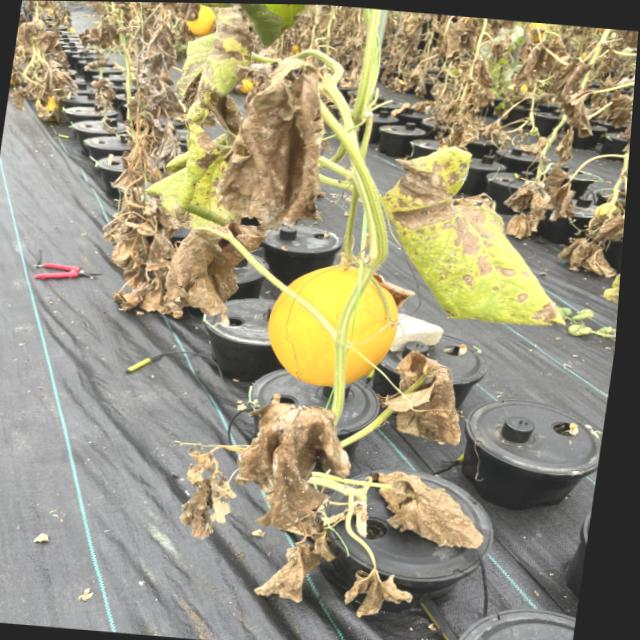bacterial wilt: (349, 140, 592, 334), (198, 50, 340, 236), (123, 210, 288, 330), (232, 389, 357, 493), (367, 344, 488, 449), (366, 469, 497, 559), (177, 449, 241, 543), (251, 528, 332, 602), (328, 558, 413, 616)
